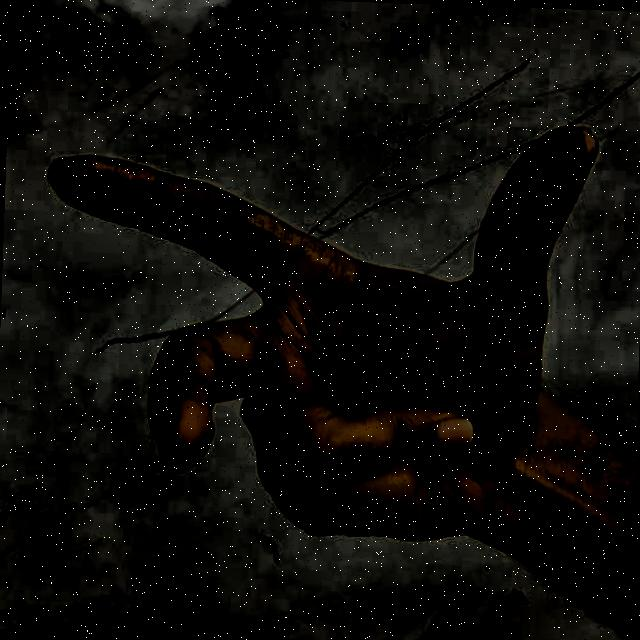Da: (19, 32, 616, 612)
